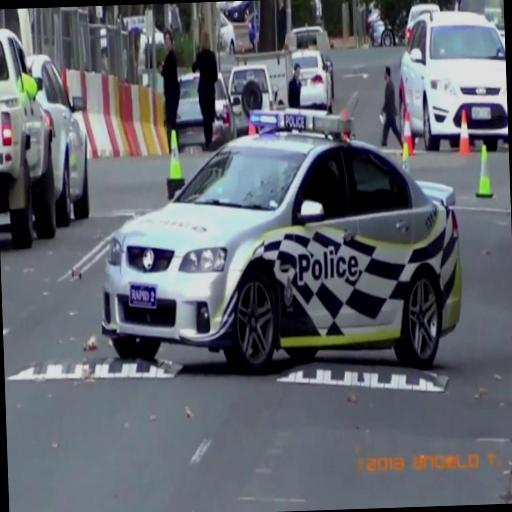Ambulance: (101, 102, 466, 386)
